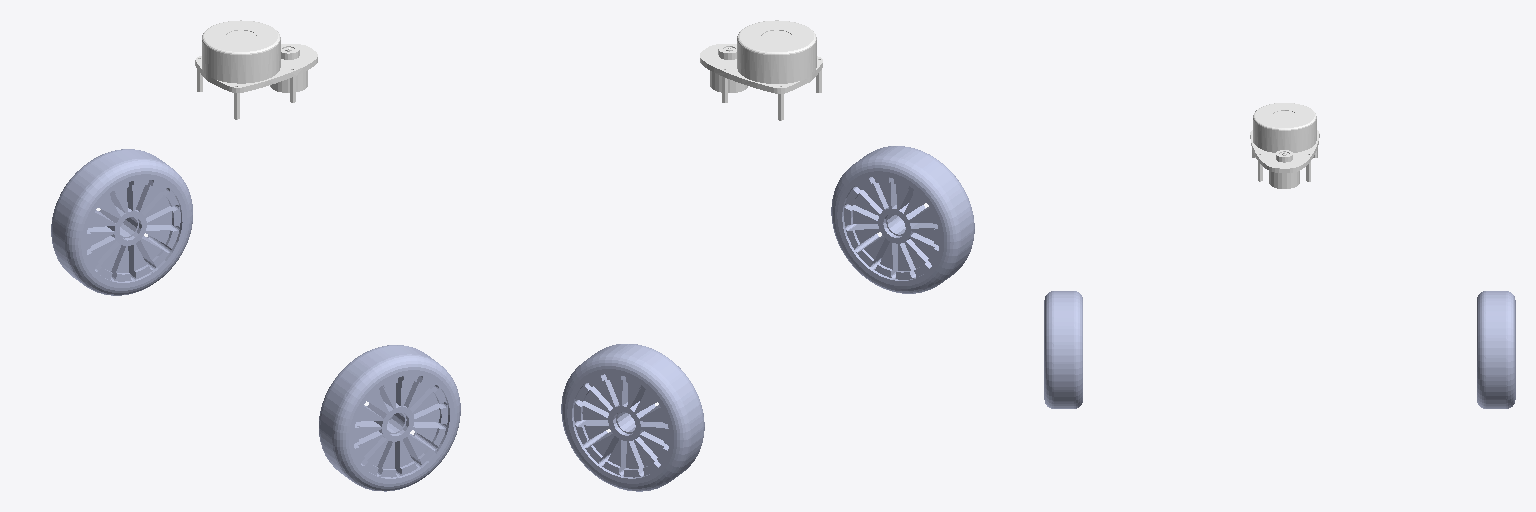
URDF robot description (urdf_sandee):
<?xml version="1.0" encoding="utf-8"?>
<!-- This URDF was automatically created by SolidWorks to URDF Exporter! Originally created by [author] ([email redacted]) 
     Commit Version: 1.6.0-1-g15f4949  Build Version: 1.6.7594.29634
     For more information, please see http://wiki.ros.org/sw_urdf_exporter -->
<robot
  name="urdf_sandee">
  <link
    name="base_link">
    <inertial>
      <origin
        xyz="-8.35136337533626E-05 -0.0045588346483541 0.0245592737743742"
        rpy="0 0 0" />
      <mass
        value="5.34598858192989" />
      <inertia
        ixx="0.0328364851157701"
        ixy="1.17621012722774E-08"
        ixz="2.3601976405729E-14"
        iyy="0.0249243379409117"
        iyz="-0.000165329406089673"
        izz="0.0545548819536187" />
    </inertial>
    <visual>
      <origin
        xyz="0 0 0"
        rpy="0 0 0" />
      <geometry>
        <mesh
          filename="package://urdf_sandee/meshes/base_link.STL" />
      </geometry>
      <material
        name="">
        <color
          rgba="0.501960784313725 1 0.501960784313725 1" />
      </material>
    </visual>
    <collision>
      <origin
        xyz="0 0 0"
        rpy="0 0 0" />
      <geometry>
        <mesh
          filename="package://urdf_sandee/meshes/base_link.STL" />
      </geometry>
    </collision>
  </link>
  <link
    name="Wheel_R_Link">
    <inertial>
      <origin
        xyz="2.2289E-07 1.7015E-07 0"
        rpy="0 0 0" />
      <mass
        value="0.30963" />
      <inertia
        ixx="0.00037008"
        ixy="8.516E-10"
        ixz="-2.9959E-20"
        iyy="0.00037008"
        iyz="-5.7279E-20"
        izz="0.00067839" />
    </inertial>
    <visual>
      <origin
        xyz="0 0 0"
        rpy="0 0 0" />
      <geometry>
        <mesh
          filename="package://urdf_sandee/meshes/Wheel_R_Link.STL" />
      </geometry>
      <material
        name="">
        <color
          rgba="0.79216 0.81961 0.93333 1" />
      </material>
    </visual>
    <collision>
      <origin
        xyz="0 0 0"
        rpy="0 0 0" />
      <geometry>
        <mesh
          filename="package://urdf_sandee/meshes/Wheel_R_Link.STL" />
      </geometry>
    </collision>
  </link>
  <joint
    name="Wheel_R"
    type="continuous">
    <origin
      xyz="0 -0.23198 -0.098154"
      rpy="1.5708 0 0" />
    <parent
      link="base_link" />
    <child
      link="Wheel_R_Link" />
    <axis
      xyz="0 0 -1" />

  </joint>
  <link
    name="Wheel_L_Link">
    <inertial>
      <origin
        xyz="2.2289E-07 1.7015E-07 6.9389E-18"
        rpy="0 0 0" />
      <mass
        value="0.30963" />
      <inertia
        ixx="0.00037008"
        ixy="8.516E-10"
        ixz="-3.374E-20"
        iyy="0.00037008"
        iyz="-6.9427E-20"
        izz="0.00067839" />
    </inertial>
    <visual>
      <origin
        xyz="0 0 0"
        rpy="0 0 0" />
      <geometry>
        <mesh
          filename="package://urdf_sandee/meshes/Wheel_L_Link.STL" />
      </geometry>
      <material
        name="">
        <color
          rgba="0.79216 0.81961 0.93333 1" />
      </material>
    </visual>
    <collision>
      <origin
        xyz="0 0 0"
        rpy="0 0 0" />
      <geometry>
        <mesh
          filename="package://urdf_sandee/meshes/Wheel_L_Link.STL" />
      </geometry>
    </collision>
  </link>
  
  <joint
    name="Wheel_L"
    type="continuous">
    <origin
      xyz="0 0.21299 -0.098154"
      rpy="1.5708 0 3.1416" />
    <parent
      link="base_link" />
    <child
      link="Wheel_L_Link" />
    <axis
      xyz="0 0 1" />
  </joint>
  
  <link
    name="laser_frame">
    <inertial>
      <origin
        xyz="0 0 0"
        rpy="0 0 0" />
      <mass
        value="0" />
      <inertia
        ixx="0"
        ixy="0"
        ixz="0"
        iyy="0"
        iyz="0"
        izz="0" />
    </inertial>
    <visual>
      <origin
        xyz="0 0 0"
        rpy="0 0 0" />
      <geometry>
        <mesh
          filename="package://urdf_sandee/meshes/Lidar_Link.STL" />
      </geometry>
      <material
        name="">
        <color
          rgba="1 1 1 1" />
      </material>
    </visual>
    <collision>
      <origin
        xyz="0 0 0"
        rpy="0 0 0" />
      <geometry>
        <mesh
          filename="package://urdf_sandee/meshes/Lidar_Link.STL" />
      </geometry>
    </collision>
  </link>
  <joint
    name="laser_frame_joint"
    type="fixed">
    <origin
      xyz="-0.011359 -0.0045436 0.14802"
      rpy="0 0 0" />
    <parent
      link="base_link" />
    <child
      link="laser_frame" />
    <axis
      xyz="0 0 0" />
  </joint>
</robot>

--- Facts derived from the render (not from the file) ---
Views: 3 orthographic renders of the robot side by side, from view 1: azimuth 30°, elevation 25°; view 2: azimuth 150°, elevation 25°; view 3: azimuth 270°, elevation 25°.
Robot: urdf_sandee — 4 links, 3 joints (2 continuous, 1 fixed); root link base_link; default pose: all joints at 0.
Visible links, largest first — view 1: Wheel_L_Link, Wheel_R_Link, laser_frame; view 2: Wheel_L_Link, Wheel_R_Link, laser_frame; view 3: laser_frame, Wheel_R_Link, Wheel_L_Link.
Boxes of the visible links, left/top/right/bottom form: Wheel_L_Link: left=51, top=149, right=192, bottom=295; Wheel_R_Link: left=319, top=345, right=460, bottom=491; laser_frame: left=195, top=20, right=317, bottom=119; Wheel_L_Link: left=561, top=344, right=704, bottom=491; Wheel_R_Link: left=831, top=146, right=974, bottom=293; laser_frame: left=700, top=20, right=822, bottom=120; laser_frame: left=1250, top=103, right=1319, bottom=188; Wheel_R_Link: left=1044, top=291, right=1082, bottom=408; Wheel_L_Link: left=1477, top=291, right=1515, bottom=408.
Bounding box of the posed robot: 0.1219 × 0.485 × 0.3221 m (x, y, z).
Meshes: 4 distinct files referenced, 3 mesh visuals loaded (3 binary STL); not drawn: 1 (reference not matched to a file when rendering).
